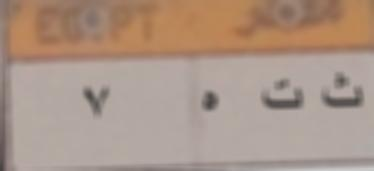7: (75, 81, 114, 122)
haa: (195, 82, 226, 118)
taa: (260, 66, 304, 117)
thaa: (318, 59, 369, 121)
